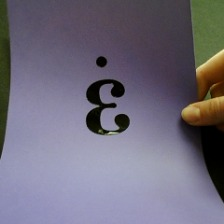violet3: (76, 54, 135, 140)
